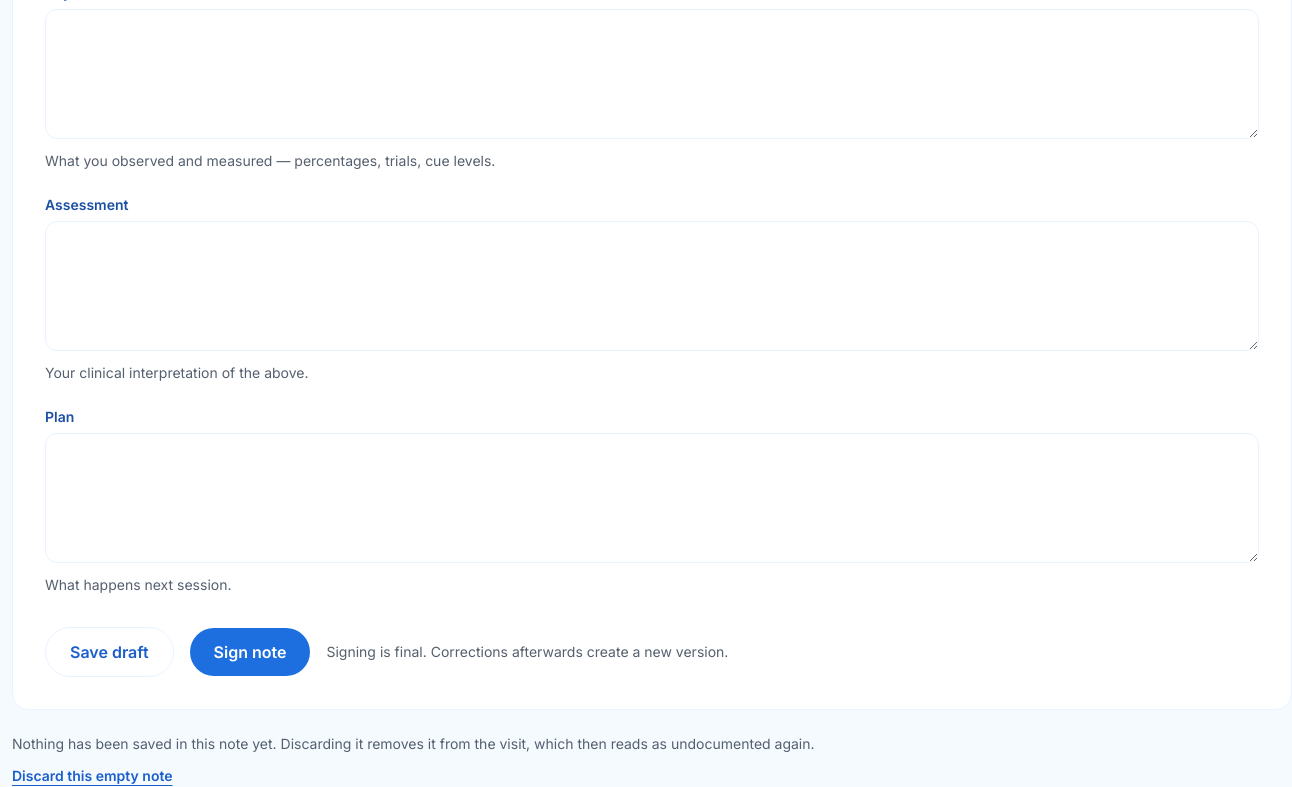
Test: NoteEditor while an action is in flight › cannot be made to discard the same draft twice
The width and height of the screenshot is (1292, 787).
(page scrolled)
Click the button "Discard this empty note" at (92, 776), box x1=12 y1=766 x2=172 y2=786
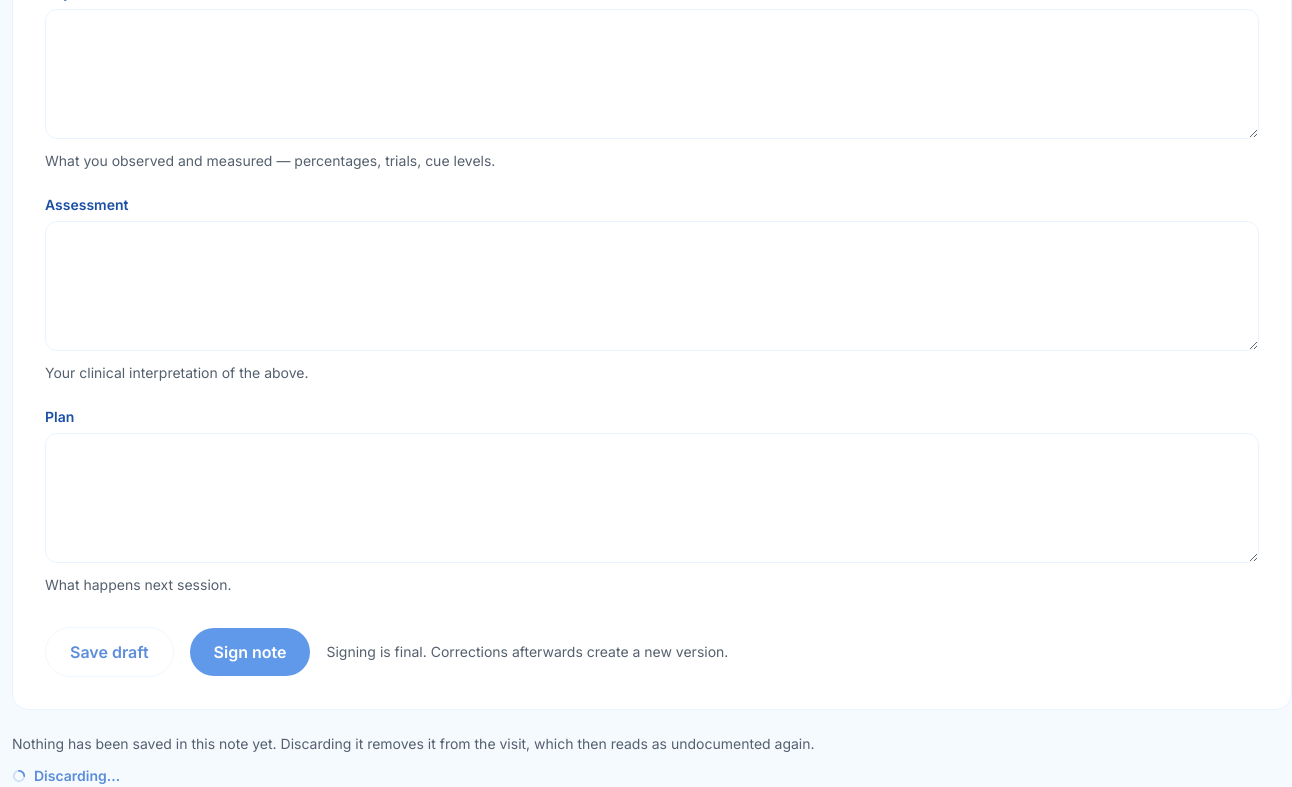
expect the button "Discarding…" is disabled: met
Click the button "Discarding…" at (66, 776), box x1=12 y1=766 x2=120 y2=786
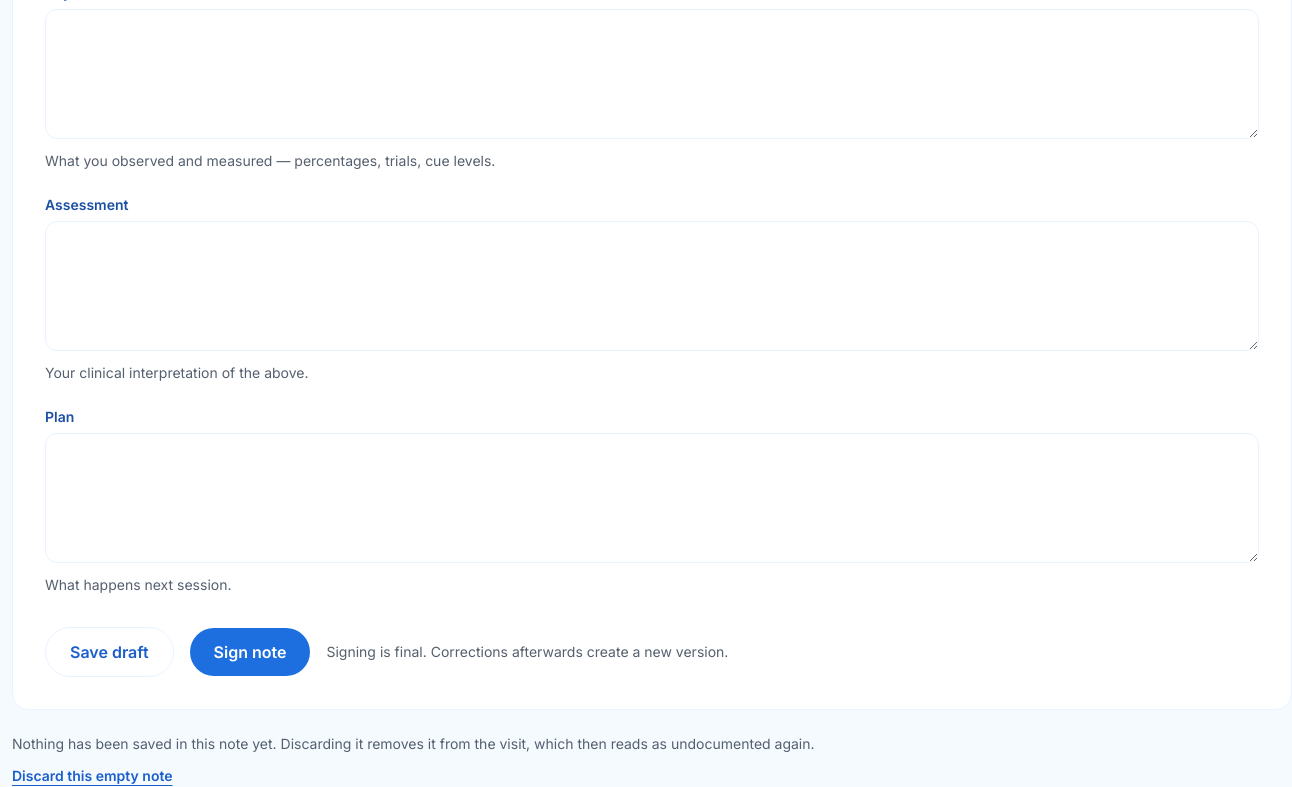
expect the button "Discard this empty note" is enabled: met, box x1=12 y1=766 x2=172 y2=786
